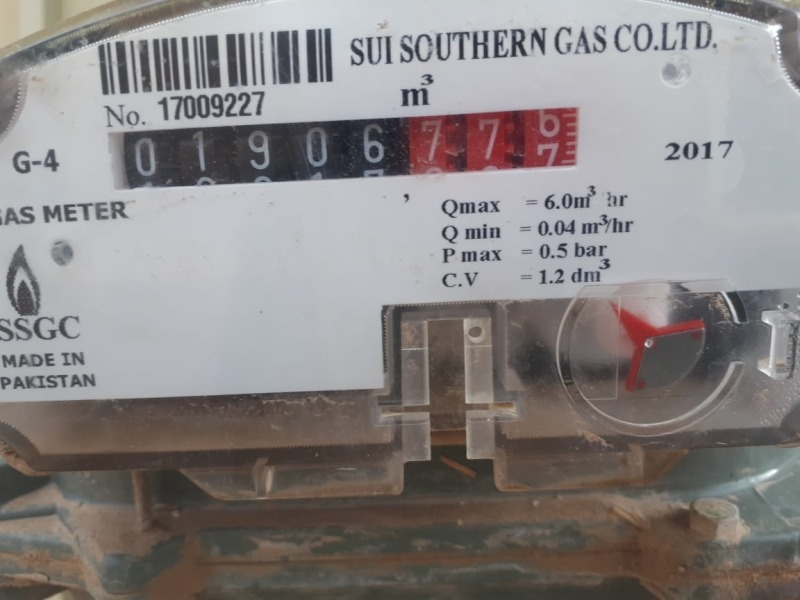ssgc: (107, 109, 579, 186)
